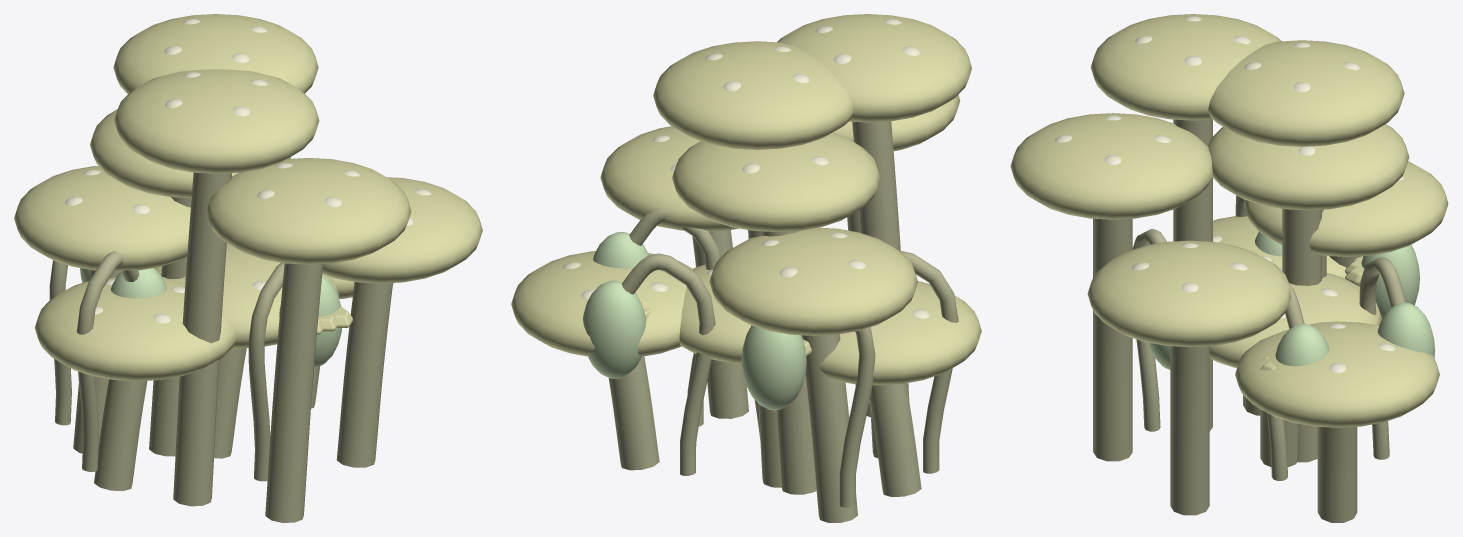
Rendered from bio_spore_fungus_18_near.glb.
3 renders of one model, left to right at view 1: azimuth 30°, elevation 25°; view 2: azimuth 150°, elevation 25°; view 3: azimuth 270°, elevation 25°, orthographic.
Parts seen in each view (by area): view 1: Thick umbrella cap.007, Thick umbrella cap.002, Thick umbrella cap.001, Thick umbrella cap.004, Curved stipe.007, Thick umbrella cap.003, Curved stipe.002, Thick umbrella cap.005, Curved stipe.005, Curved stipe.004, Thick umbrella cap, Thick umbrella cap.006 (+9 smaller); view 2: Thick umbrella cap.001, Thick umbrella cap.003, Thick umbrella cap.006, Thick umbrella cap.007, Thick umbrella cap.008, Thick umbrella cap.004, Thick umbrella cap.005, Curved stipe.001, Pendant spore capsule.003, Curved stipe.004, Arched fruit stem.003, Pendant spore capsule.001 (+11 smaller); view 3: Thick umbrella cap.005, Thick umbrella cap.002, Thick umbrella cap.003, Thick umbrella cap.008, Thick umbrella cap.007, Thick umbrella cap.006, Thick umbrella cap.001, Curved stipe.002, Curved stipe.005, Thick umbrella cap, Curved stipe.008, Curved stipe.003 (+9 smaller).
Part boxes in pixels (left/top/right/bottom): Thick umbrella cap.007: left=114, top=69, right=319, bottom=173; Thick umbrella cap.002: left=206, top=158, right=411, bottom=264; Thick umbrella cap.001: left=14, top=166, right=190, bottom=271; Thick umbrella cap.004: left=34, top=276, right=236, bottom=381; Curved stipe.007: left=173, top=172, right=231, bottom=506; Thick umbrella cap.003: left=113, top=14, right=318, bottom=93; Curved stipe.002: left=265, top=263, right=323, bottom=522; Thick umbrella cap.005: left=322, top=177, right=482, bottom=283; Curved stipe.005: left=336, top=282, right=392, bottom=467; Curved stipe.004: left=94, top=379, right=147, bottom=491; Thick umbrella cap: left=154, top=243, right=339, bottom=348; Thick umbrella cap.006: left=90, top=109, right=291, bottom=198; Thick umbrella cap.001: left=709, top=227, right=917, bottom=335; Thick umbrella cap.003: left=653, top=41, right=853, bottom=149; Thick umbrella cap.006: left=672, top=132, right=880, bottom=232; Thick umbrella cap.007: left=777, top=14, right=971, bottom=122; Thick umbrella cap.008: left=511, top=251, right=692, bottom=356; Thick umbrella cap.004: left=818, top=281, right=981, bottom=385; Thick umbrella cap.005: left=600, top=126, right=738, bottom=231; Curved stipe.001: left=801, top=334, right=857, bottom=522; Pendant spore capsule.003: left=582, top=280, right=645, bottom=378; Curved stipe.004: left=869, top=383, right=921, bottom=496; Arched fruit stem.003: left=622, top=253, right=715, bottom=475; Pendant spore capsule.001: left=741, top=325, right=806, bottom=410; Thick umbrella cap.005: left=1087, top=240, right=1291, bottom=347; Thick umbrella cap.002: left=1010, top=113, right=1212, bottom=219; Thick umbrella cap.003: left=1208, top=40, right=1404, bottom=146; Thick umbrella cap.008: left=1235, top=321, right=1439, bottom=427; Thick umbrella cap.007: left=1090, top=14, right=1281, bottom=120; Thick umbrella cap.006: left=1208, top=124, right=1409, bottom=210; Thick umbrella cap.001: left=1243, top=161, right=1448, bottom=256; Curved stipe.002: left=1093, top=218, right=1132, bottom=461; Curved stipe.005: left=1170, top=346, right=1209, bottom=515; Thick umbrella cap: left=1209, top=268, right=1382, bottom=368; Curved stipe.008: left=1317, top=427, right=1357, bottom=522; Curved stipe.003: left=1282, top=209, right=1321, bottom=462.
Size of the model in its own units: 1.97 by 1.92 by 1.88.
